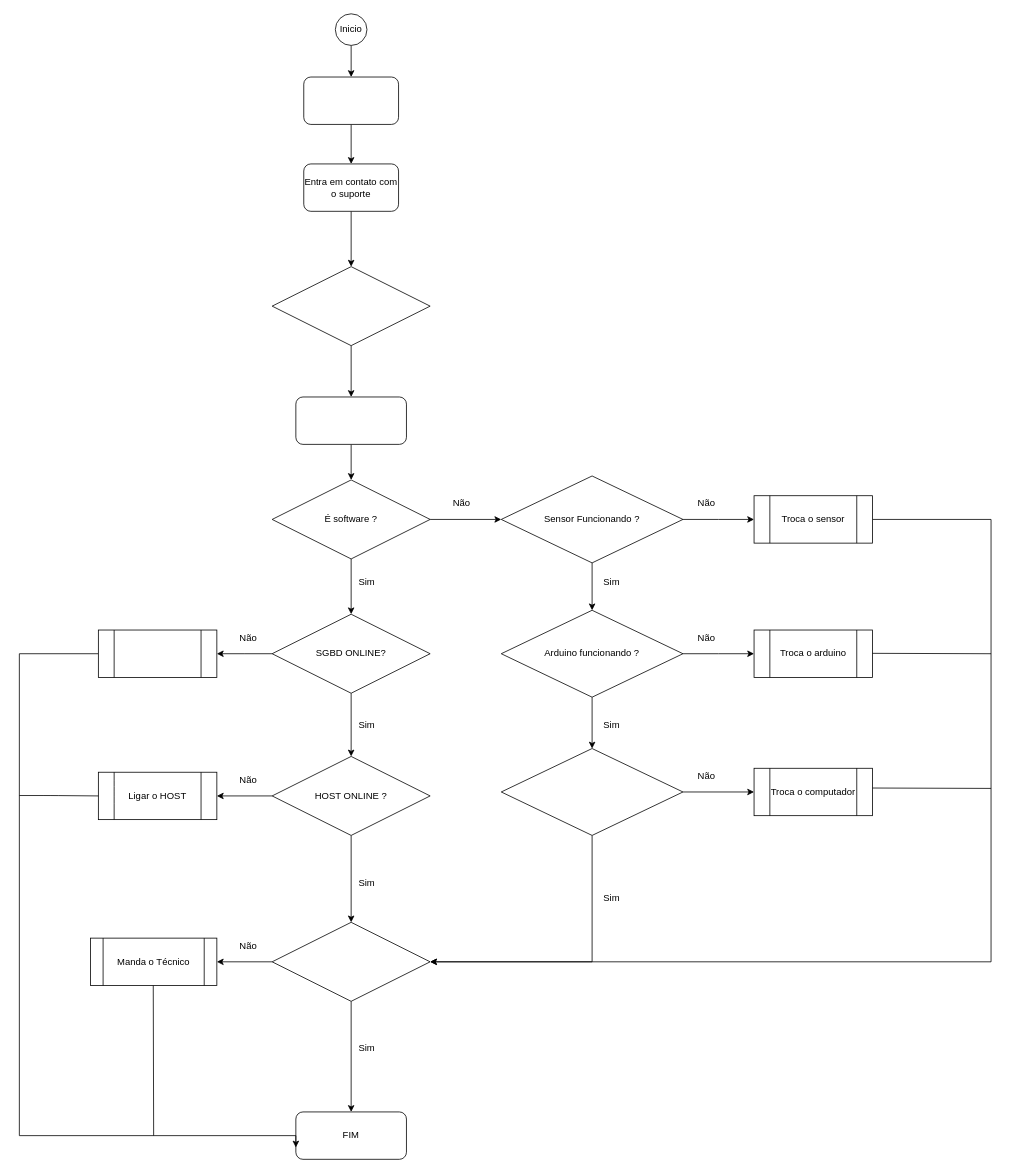
Some shapes in this 1011 by 1173 pixel diagram are drawn without their labels. Each missing label, with the centre of its shape:
"Computador funcionando ?" belongs at point 591,791.
"Funcionou ?" belongs at point 350,961.
"Ligar o Banco" belongs at point 157,653.
"Sistema não funciona" belongs at point 350,420.
"Suporte analisa o caso" belongs at point 350,306.
"Usuário tem um incidente" belongs at point 351,100.
